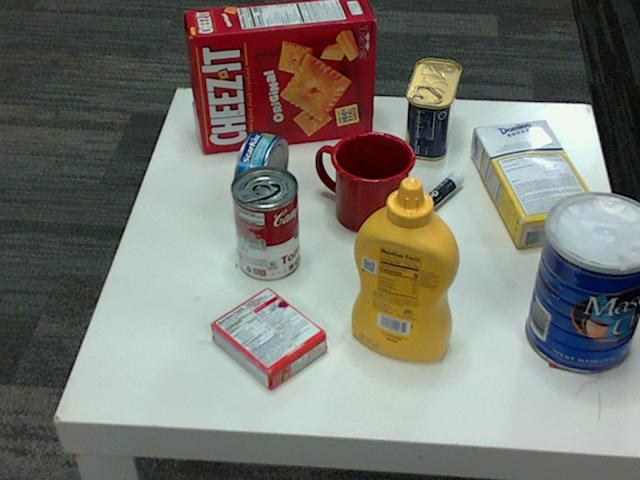cracker_box: (185, 0, 373, 151)
gelatin_box: (207, 287, 323, 391)
large_marker: (395, 175, 464, 235)
master_chef_can: (527, 192, 639, 374)
mug: (315, 129, 415, 232)
mustard_bottle: (351, 178, 460, 361)
potted_meat_can: (403, 60, 459, 161)
sugar_box: (471, 120, 603, 248)
tomato_soup_can: (231, 166, 299, 281)
tuna_fish_can: (232, 130, 287, 208)
